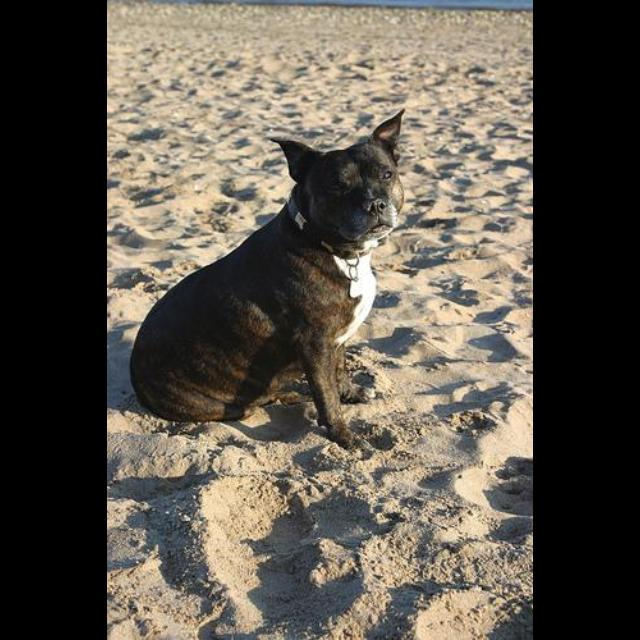staffford: (129, 108, 406, 454)
